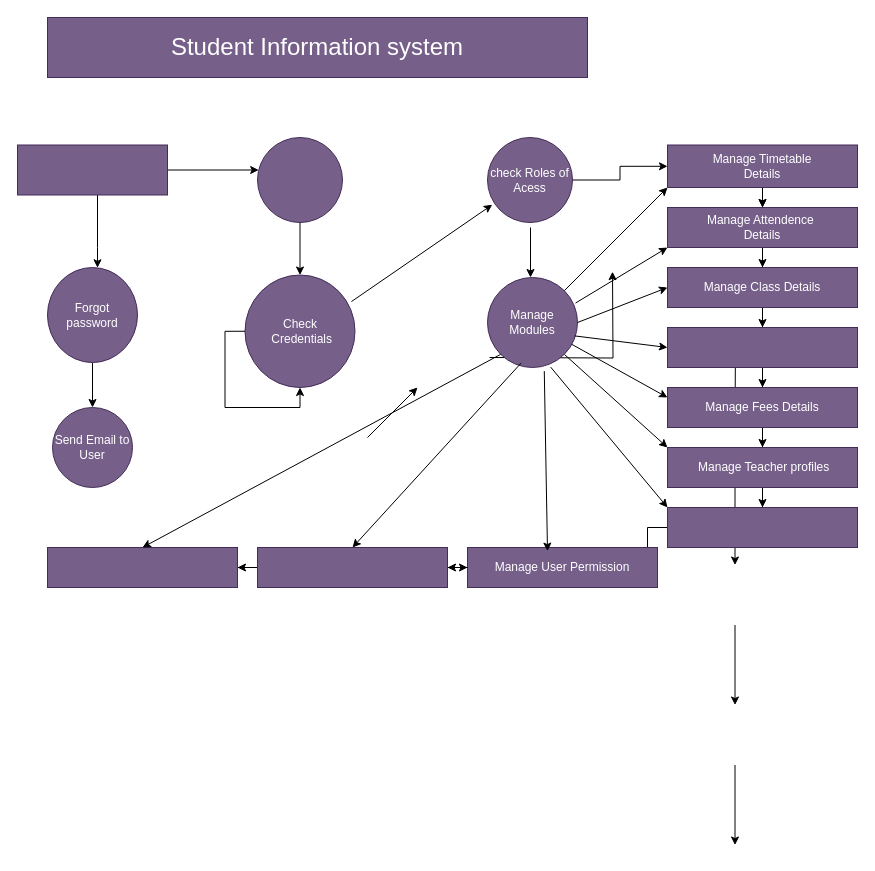
Some shapes in this 875 by 871 pixel diagram are drawn without their labels. Here are the shapes that lost their labels. From the top down, the centre of each, then its label:
(x=92, y=169): Admin
(x=299, y=179): Login to system
(x=762, y=347): Manage Student Details
(x=762, y=527): Manage Report
(x=142, y=567): Manage System Admins
(x=352, y=567): Manage Roles of User
